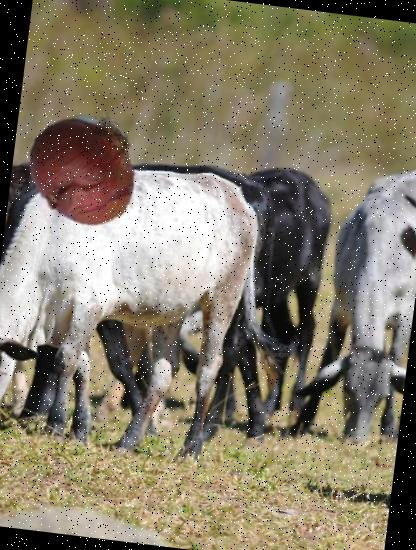Onion: (22, 104, 152, 233)
